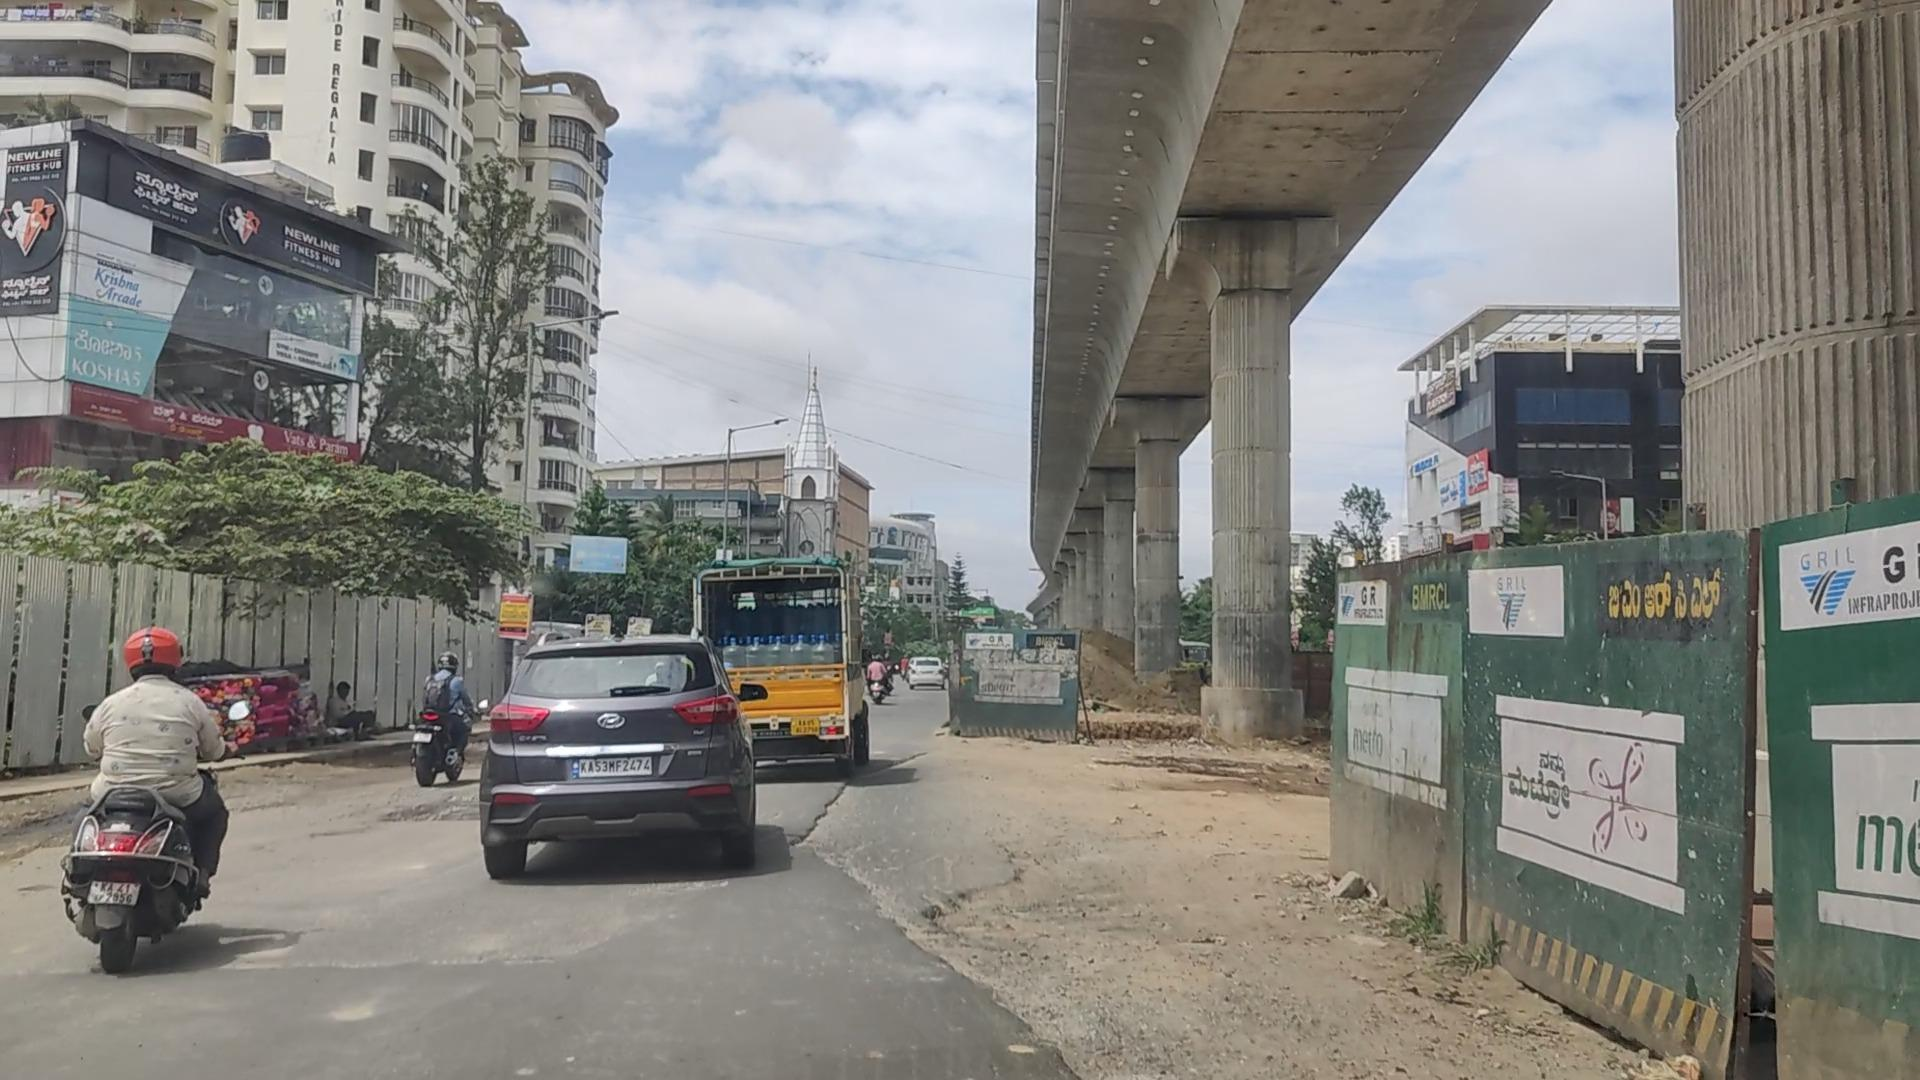LMV: (479, 636, 756, 874), (84, 634, 212, 977)
RoadDamages: (951, 920, 1102, 1076), (827, 844, 926, 959), (384, 775, 476, 844), (794, 786, 884, 832)
